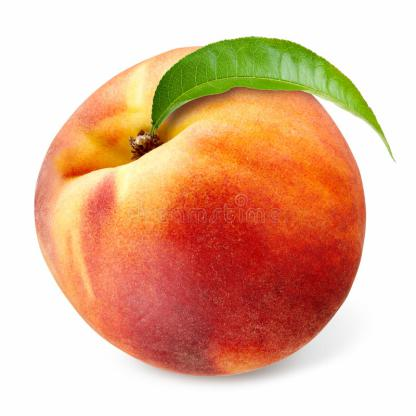peach leaf: (140, 28, 396, 165)
